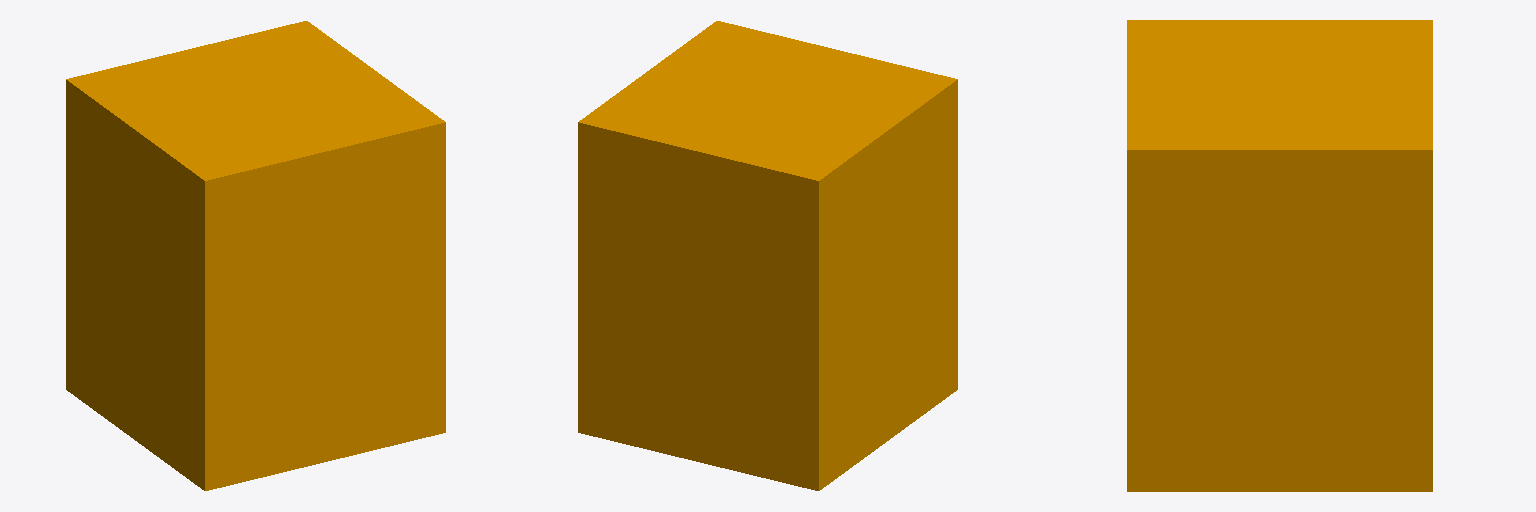
The robot description file, URDF, robot "object":
<?xml version="1.0"?>
<!-- Auto-generated by tools/gen_primitive_objects.py. kind=box dims=(0.065, 0.065, 0.08) -->
<robot name="object">
  <link name="object">
    <visual>
      <origin xyz="0 0 0"/>
      <geometry>
        <box size="0.065000 0.065000 0.080000"/>
      </geometry>
    </visual>
    <collision>
      <origin xyz="0 0 0"/>
      <geometry>
        <box size="0.065000 0.065000 0.080000"/>
      </geometry>
    </collision>
    <inertial>
      <mass value="0.067600"/>
      <inertia ixx="0.00005985" ixy="0.0" ixz="0.0" iyy="0.00005985" iyz="0.0" izz="0.00004760"/>
    </inertial>
  </link>
</robot>

--- What the picture shows (computed from the rendered views, not written in the file) ---
3 views of the same robot in one strip: view 1: azimuth 30°, elevation 25°; view 2: azimuth 150°, elevation 25°; view 3: azimuth 270°, elevation 25° (orthographic).
Model object with 1 links and 0 joints (none), rooted at object, posed every joint at zero.
Links seen in each view (by area): view 1: object; view 2: object; view 3: object.
Link boxes in pixels (x1,y1,x2,y2): object: [66, 21, 445, 490]; object: [578, 21, 957, 490]; object: [1127, 20, 1432, 491].
Bounding box of the posed robot: 0.065 × 0.065 × 0.08 m (x, y, z).
Geometry: primitives only (box / cylinder / sphere), no mesh files.
